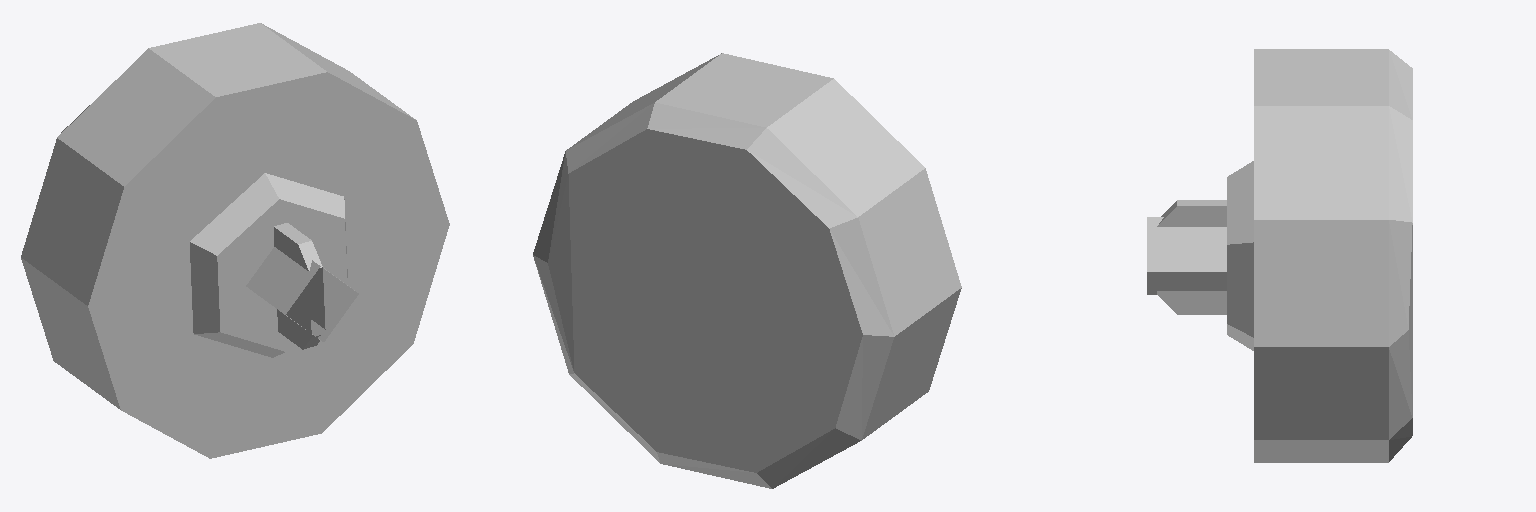
The model's file is wheel90.obj.
The picture shows the model from 3 angles: view 1: azimuth 30°, elevation 25°; view 2: azimuth 150°, elevation 25°; view 3: azimuth 270°, elevation 25°; orthographic projection.
Visible parts, largest first — view 1: wheel_low_textures; view 2: wheel_low_textures; view 3: wheel_low_textures.
Part boxes in pixels (x1,y1,x2,y2): wheel_low_textures: (21,23,449,458); wheel_low_textures: (533,53,961,488); wheel_low_textures: (1147,49,1412,462).
Bounding box in the file's own units: 1.56 × 1.49 × 0.9907.